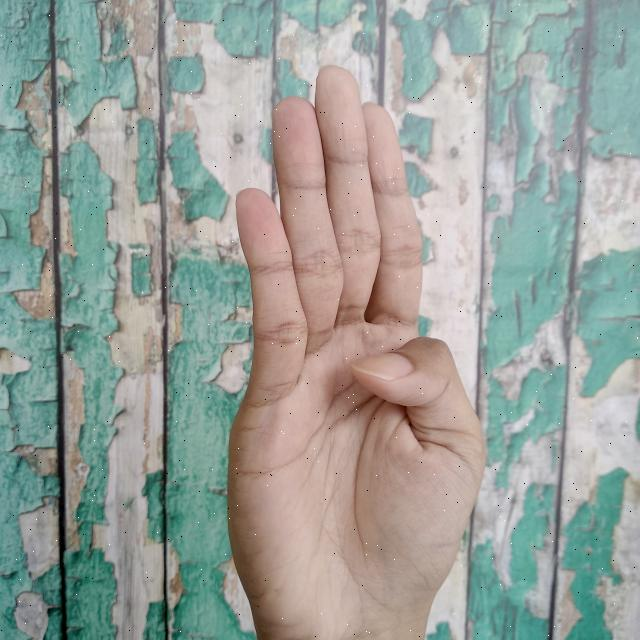B: (224, 57, 491, 640)
